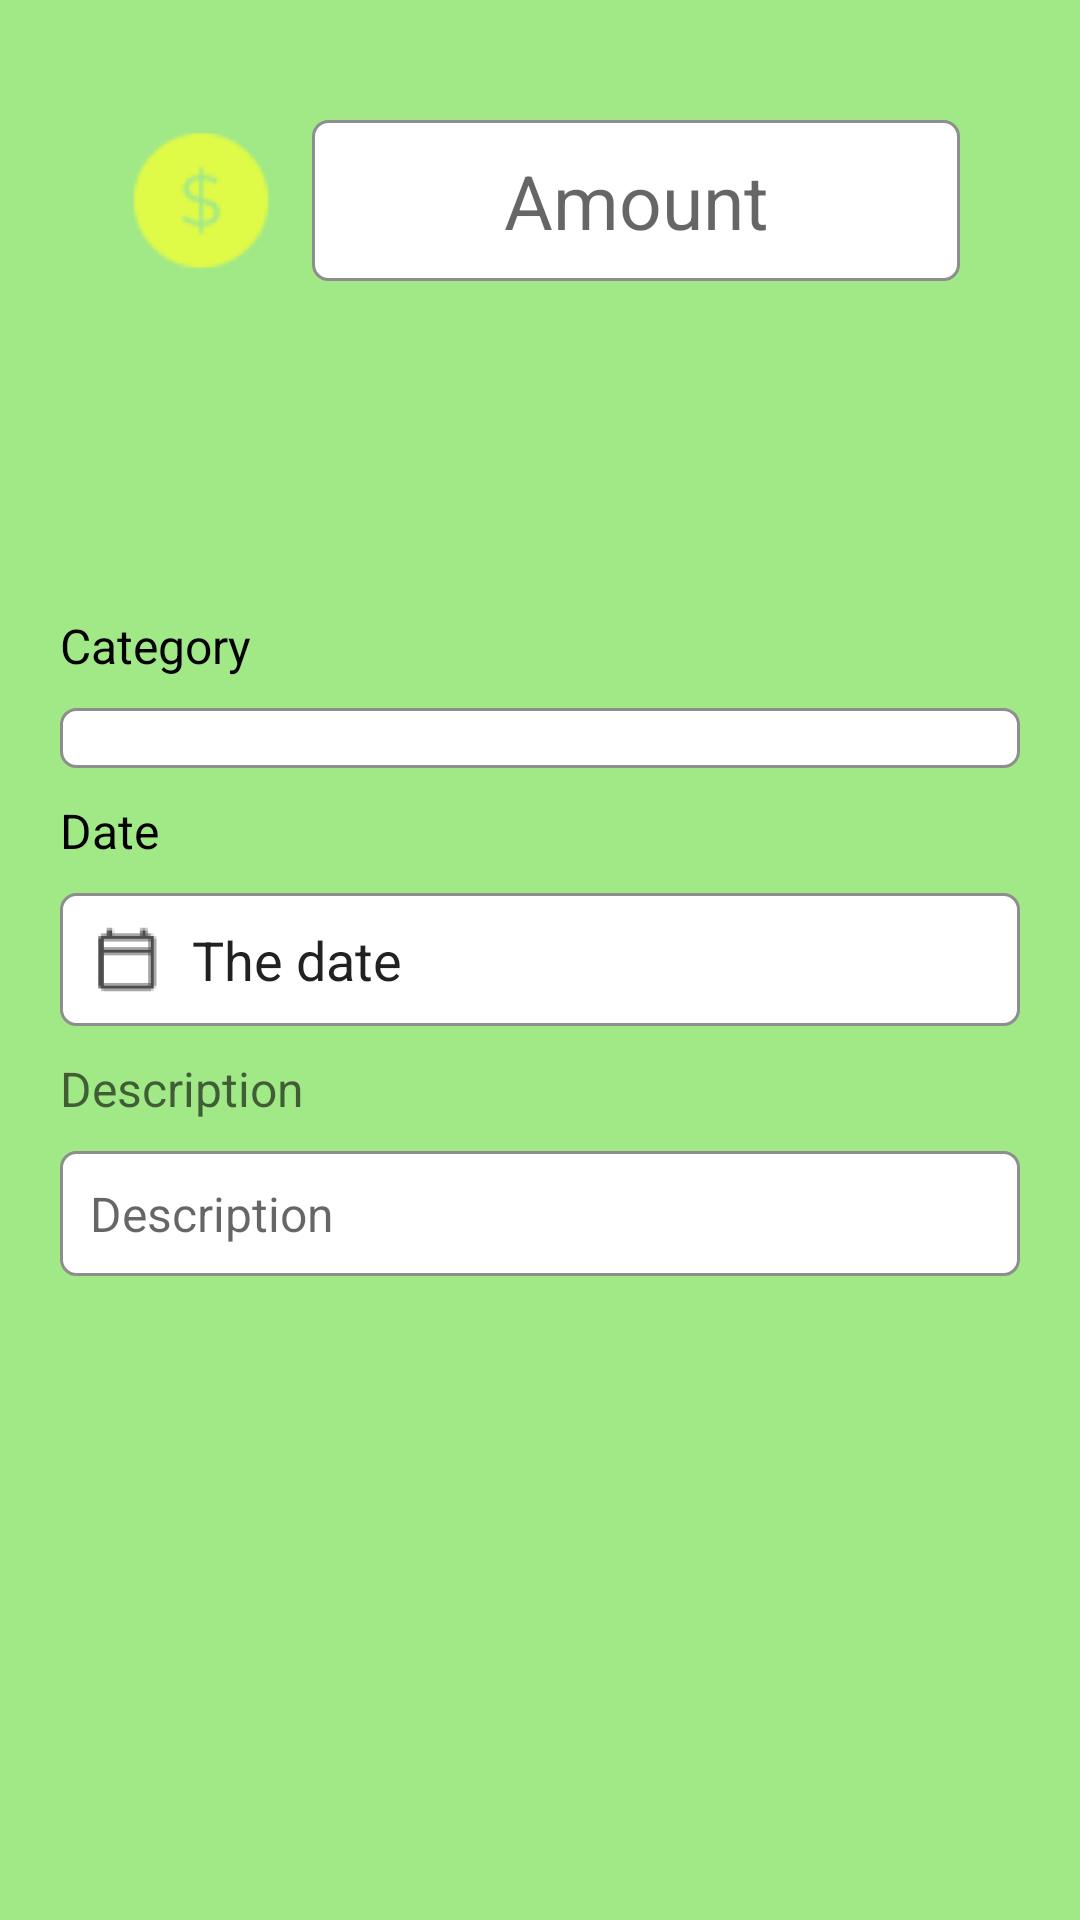

Icon click points for this 1080×1920 phone screenshot, format [x,y]:
coin: [201,200]
